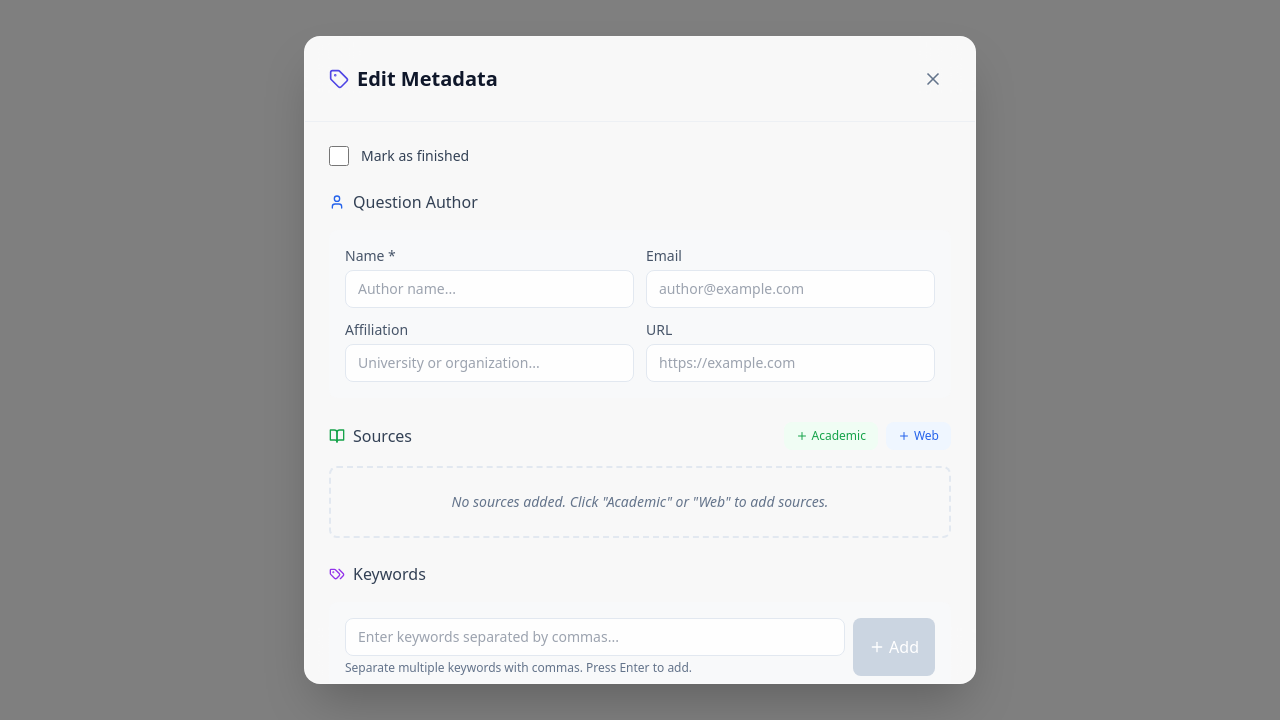
Test case: MetadataEditor › allows adding academic and web sources with correct field requirements
Test Academic Source
Click the button "Academic". click: (831, 436)
box: [784,422,878,450]
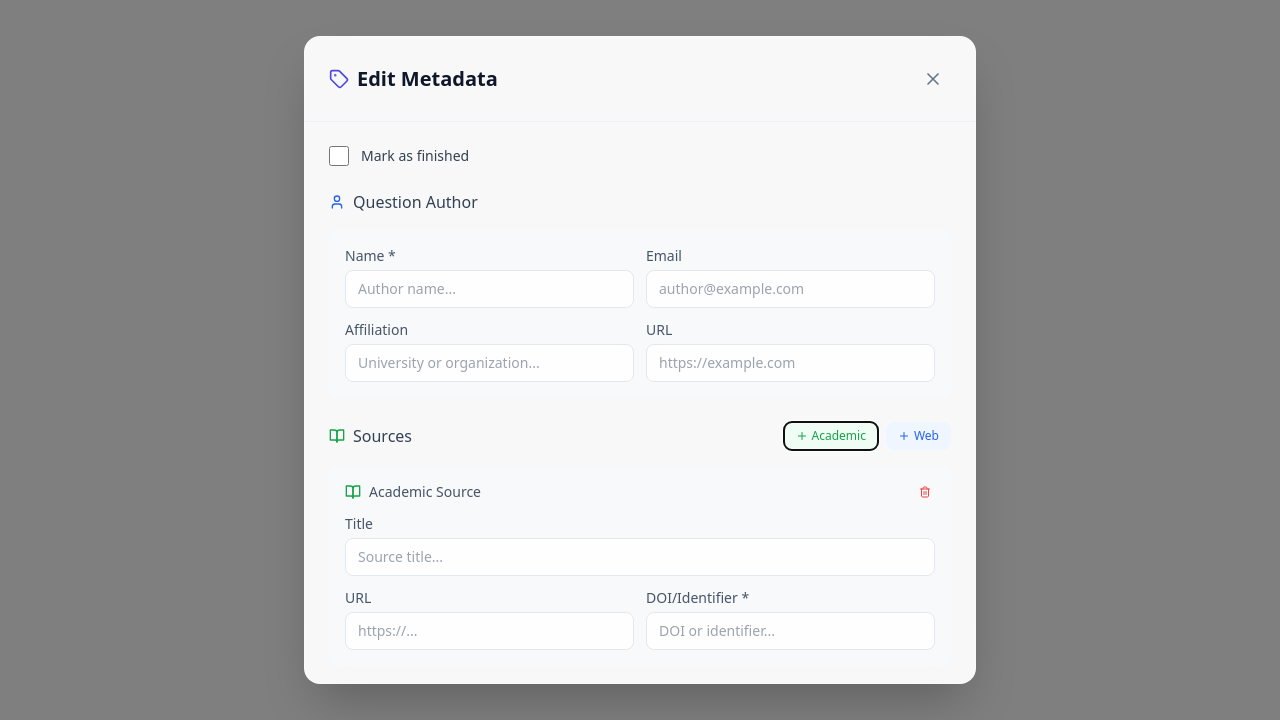
Now the text "Academic Source" is shown, box [369,482,481,502]
Now the text "Title" is shown once, box [345,514,373,533]
Now the text "DOI/Identifier *" is shown, box [646,588,749,607]
Test Web Source
Click the button "Web". click: (918, 436)
box: [886,422,951,450]
(page scrolled)
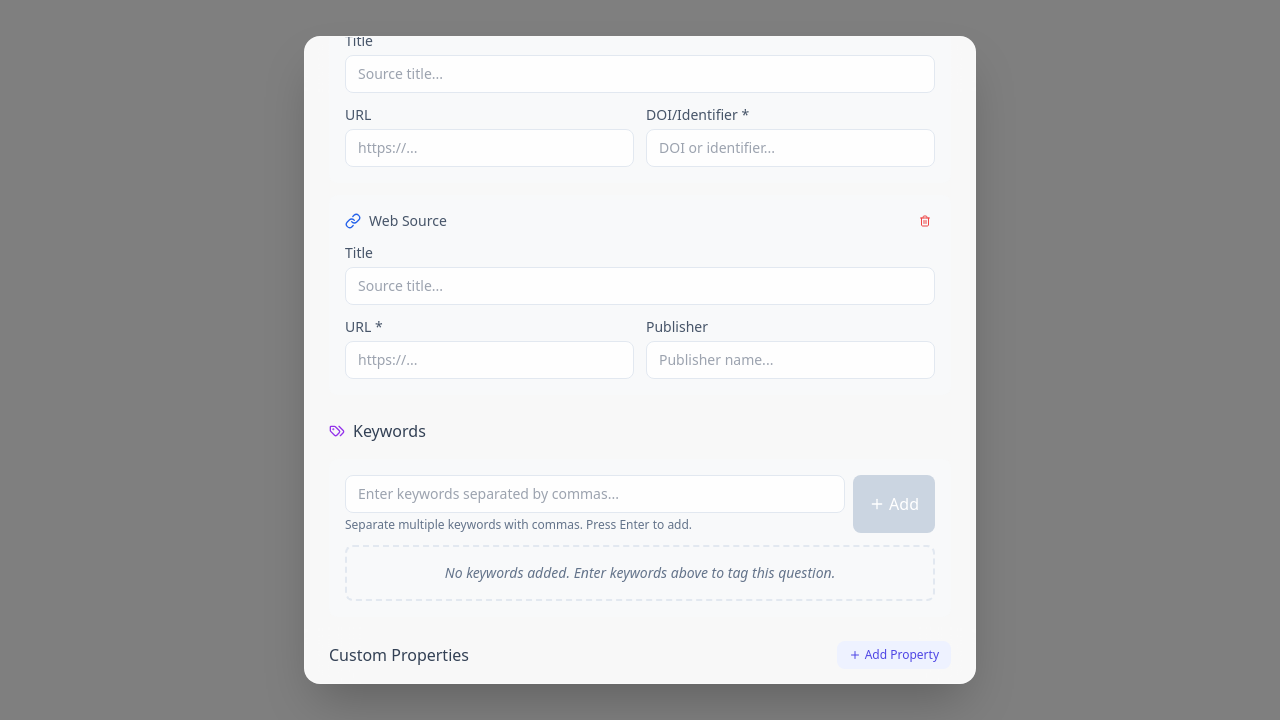
Now the text "Web Source" is shown, box [369,211,447,231]
Now the text "Title" is shown 2 times, box [345,36,373,50]; [345,243,373,262]
Now the text "URL *" is shown, box [345,317,383,336]
